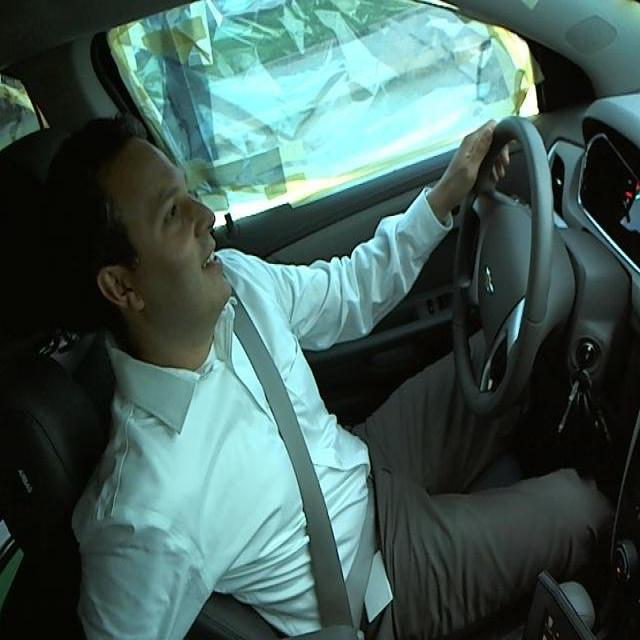seatbelt: (224, 323, 388, 628)
